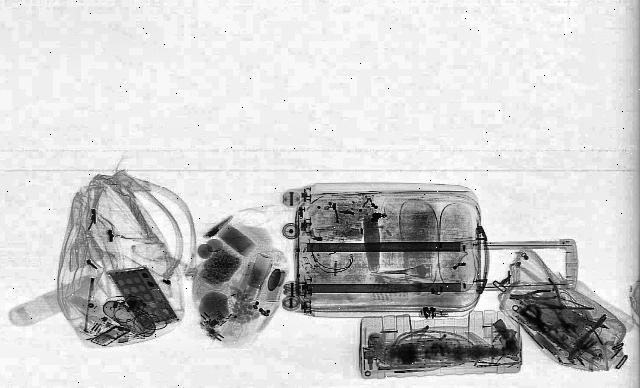Pliers: (508, 289, 558, 303)
Wrench: (508, 304, 566, 336)
